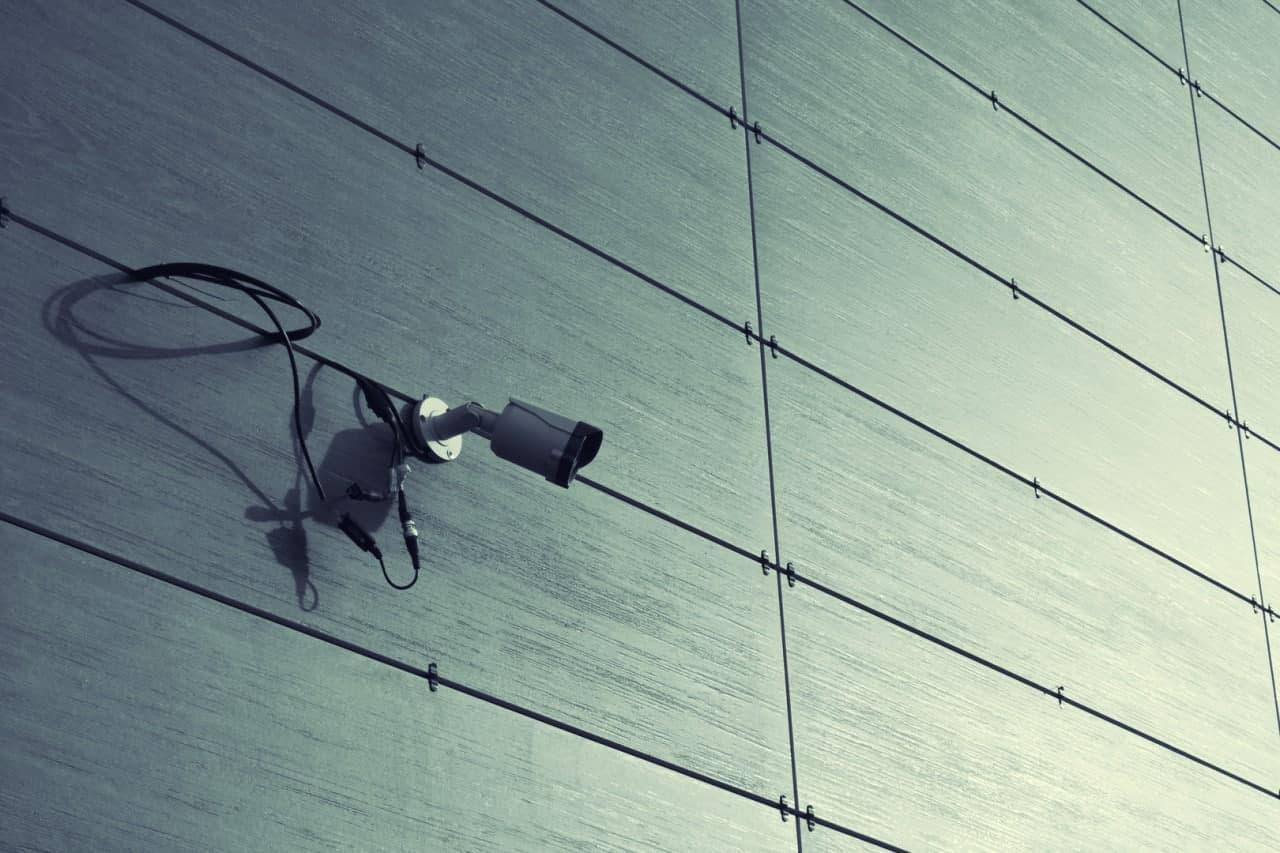CCTV: (402, 392, 604, 484)
